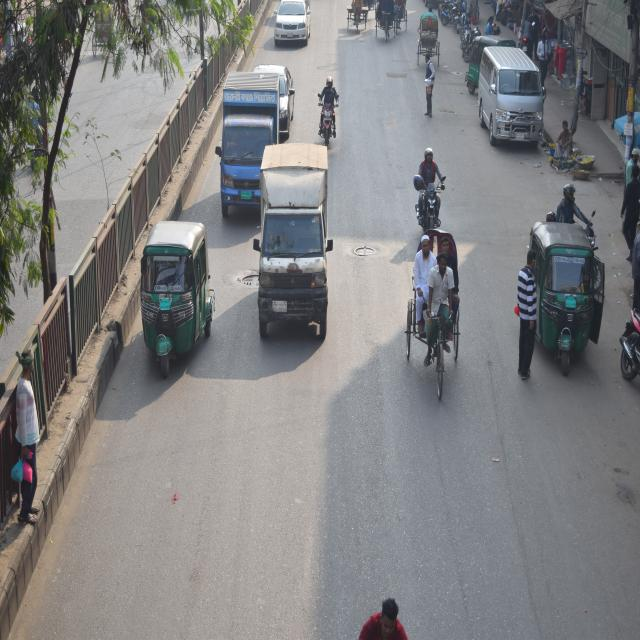car: (271, 0, 312, 48)
microbus: (474, 42, 543, 150)
motorbike: (607, 308, 640, 383), (407, 170, 446, 233), (313, 90, 340, 150)
pickup-van: (254, 149, 338, 343), (216, 69, 275, 226)
